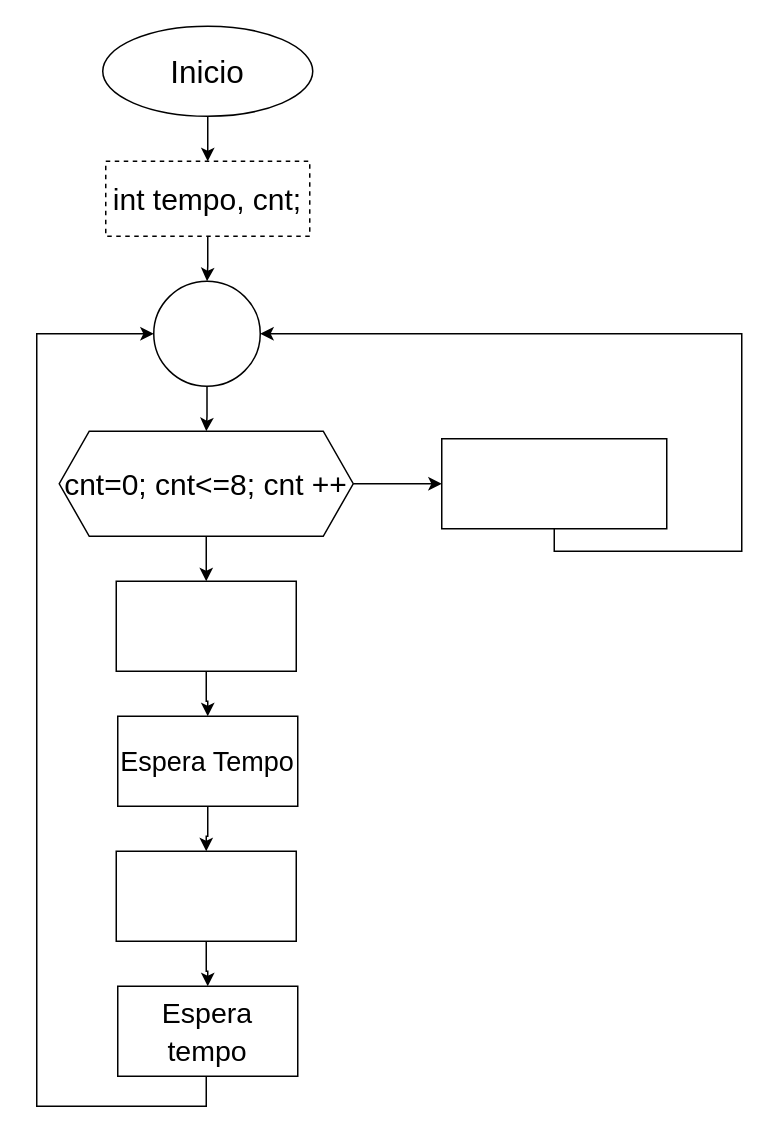
Some shapes in this 780 by 1145 pixel diagram are drawn without their labels. The centre of each missing label's shape, as x and y in pixels:
Desliga Led: point 205,895
Ligar Led: point 205,625
tempo = tempo*2;: point 553,483
